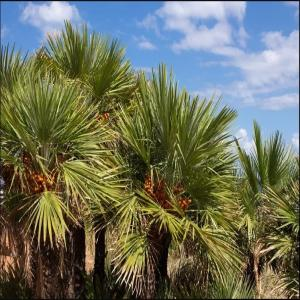palm tree: (90, 60, 246, 298), (231, 118, 299, 298)
